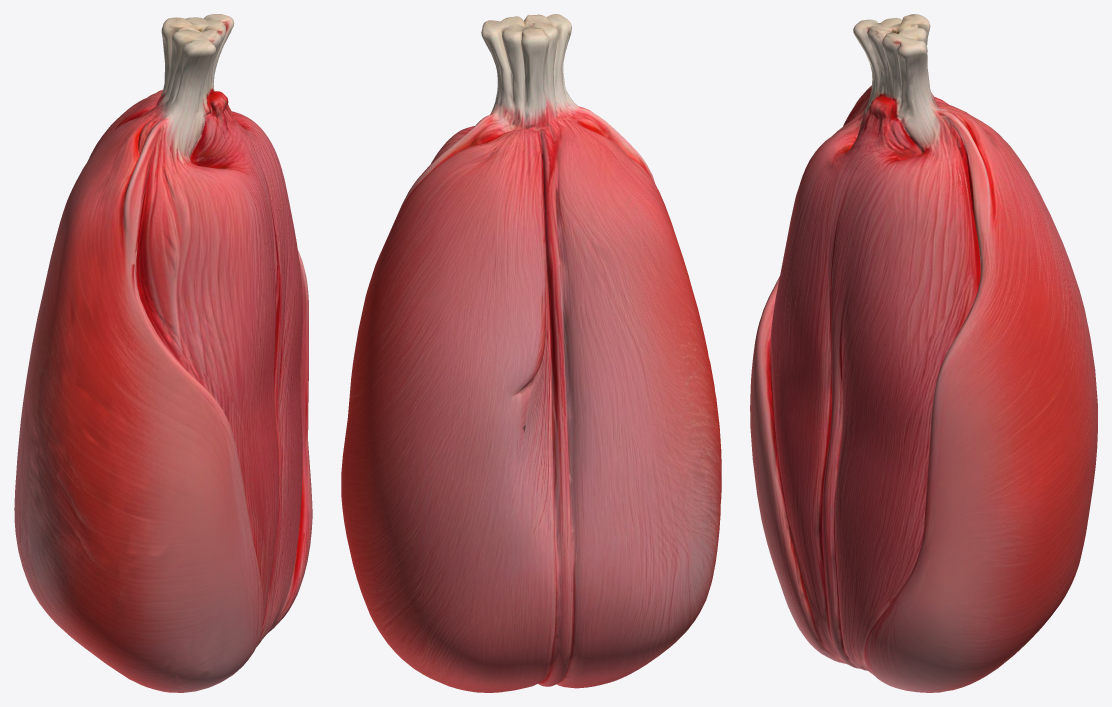
Rendered from thenar.glb.
3 renders of one model, left to right at view 1: azimuth 30°, elevation 25°; view 2: azimuth 150°, elevation 25°; view 3: azimuth 270°, elevation 25°, orthographic. The views are drawn at different scales.
Visible parts, largest first — view 1: thenar; view 2: thenar; view 3: thenar.
Part boxes in pixels (x1,y1,x2,y2): thenar: (14, 14, 312, 692); thenar: (341, 14, 721, 692); thenar: (750, 14, 1097, 692).
Bounding box in the file's own units: 0.4841 × 1 × 0.4858.
1 material, 1 textured.
